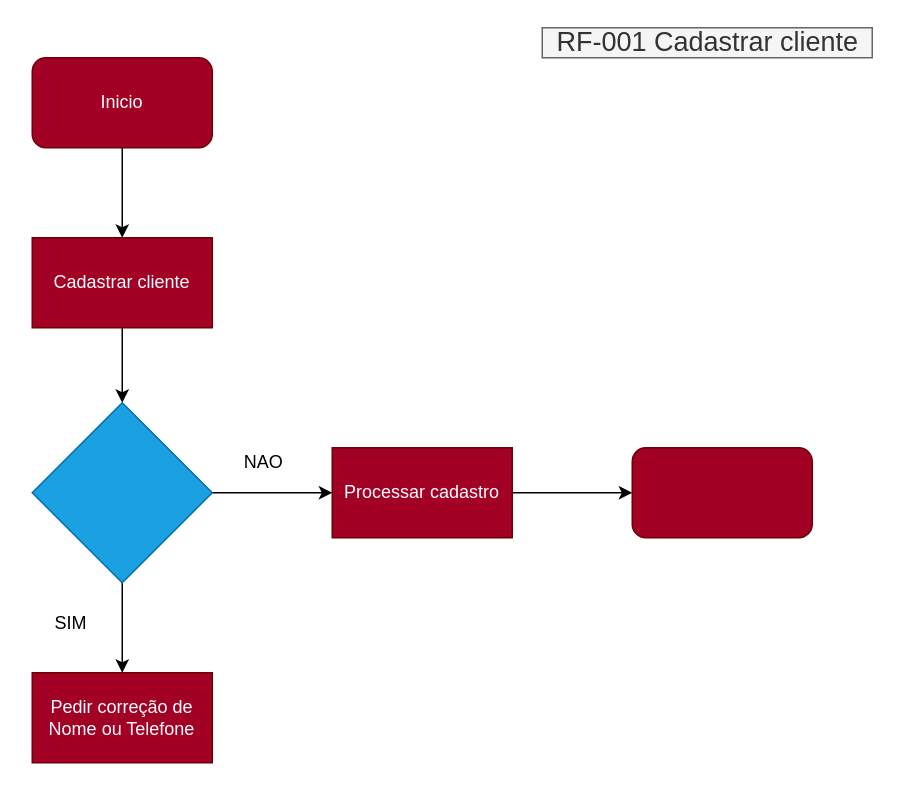
This 899x789 diagram has some shape labels left out. The centre of each missing label's shape, as x and y in pixels:
"Fim" belongs at (721,492).
"Nome Telefone já cadastrado?" belongs at (121,492).
